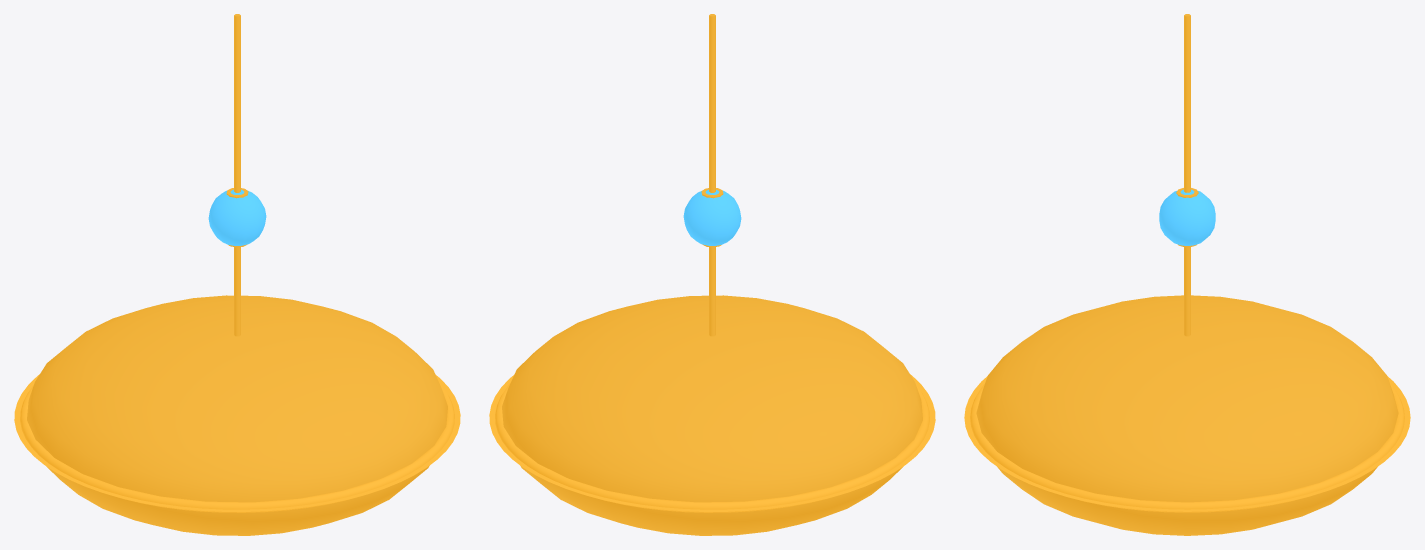
Rendered from nova_shockwave.glb.
3 renders of one model, left to right at view 1: azimuth 30°, elevation 25°; view 2: azimuth 150°, elevation 25°; view 3: azimuth 270°, elevation 25°, orthographic.
Parts seen in each view (by area): view 1: Dome, Wave, Core, NovaShockwave; view 2: Dome, Wave, Core, NovaShockwave; view 3: Dome, Wave, Core, NovaShockwave.
Part boxes in pixels (x1,y1,x2,y2): Dome: (27, 295, 447, 535); Wave: (14, 374, 460, 512); Core: (208, 188, 266, 247); NovaShockwave: (234, 14, 240, 336); Dome: (502, 295, 922, 535); Wave: (489, 374, 935, 512); Core: (683, 188, 741, 247); NovaShockwave: (709, 14, 715, 336); Dome: (976, 295, 1398, 535); Wave: (964, 376, 1410, 512); Core: (1159, 188, 1215, 247); NovaShockwave: (1184, 14, 1190, 336).
Bounding box in the file's own units: 3.36 × 4 × 3.36.
